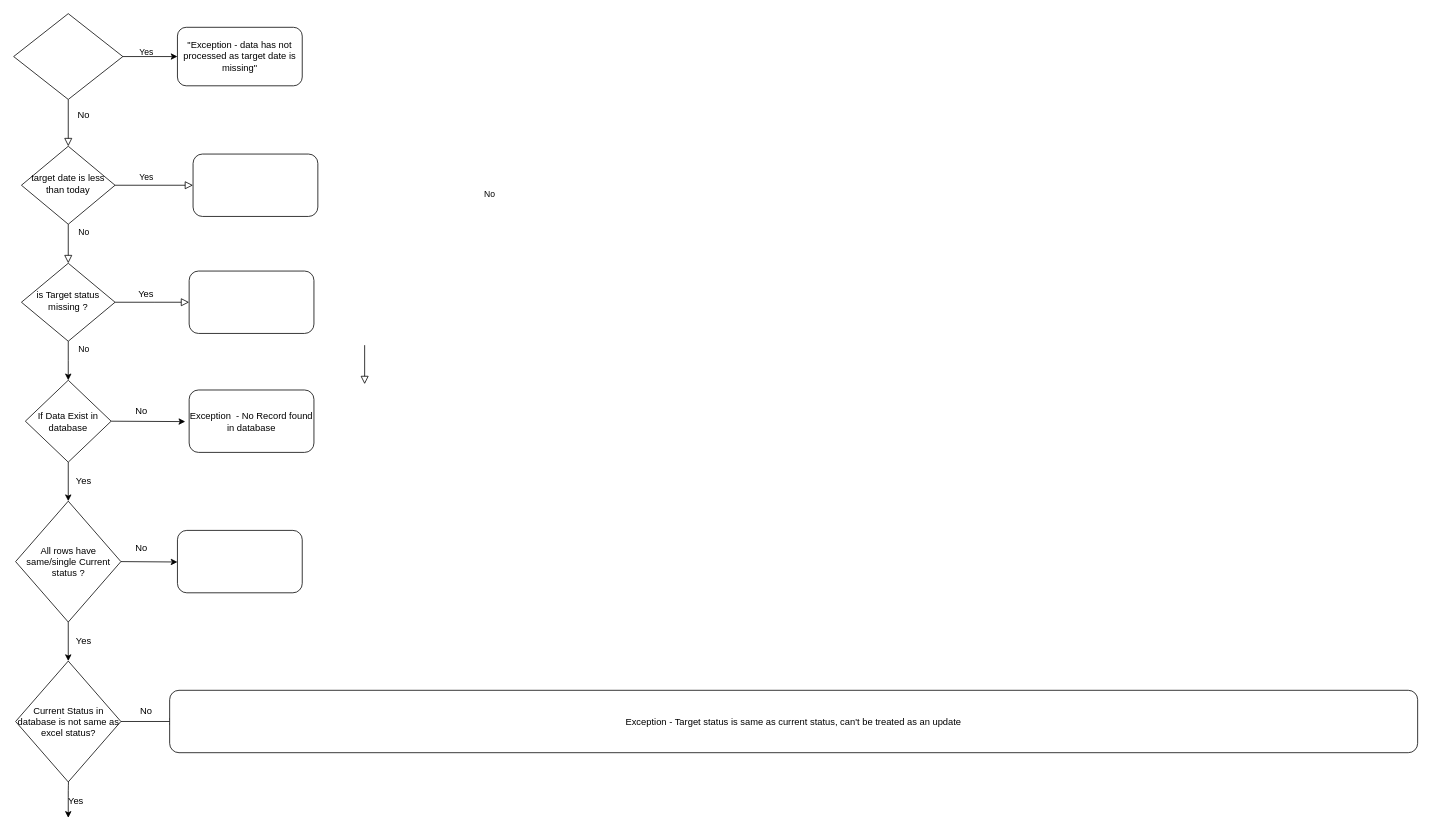
This 1431x838 diagram has some shape labels left out. Each missing label, with the box of its shape:
"Exception - data has not processed as target date can not be past date": (192, 153, 318, 216)
"Exception - data has not processed as target status is missing": (188, 270, 314, 333)
Check for target status date is null: (13, 13, 123, 99)
Exception - Exception - Multiple Current Status Found in database: (177, 530, 302, 593)
